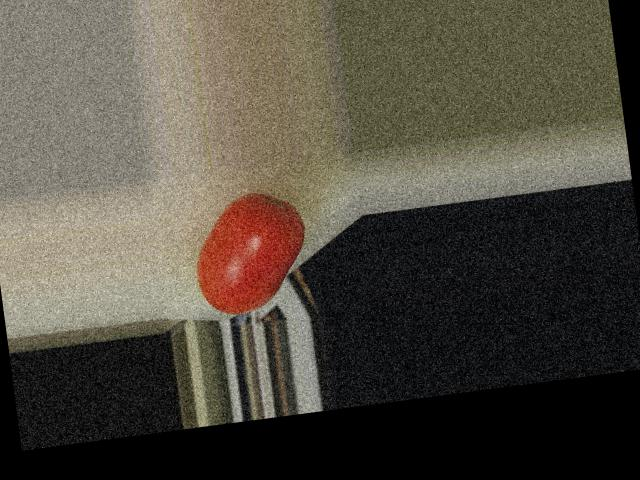tomato: (187, 187, 314, 319)
